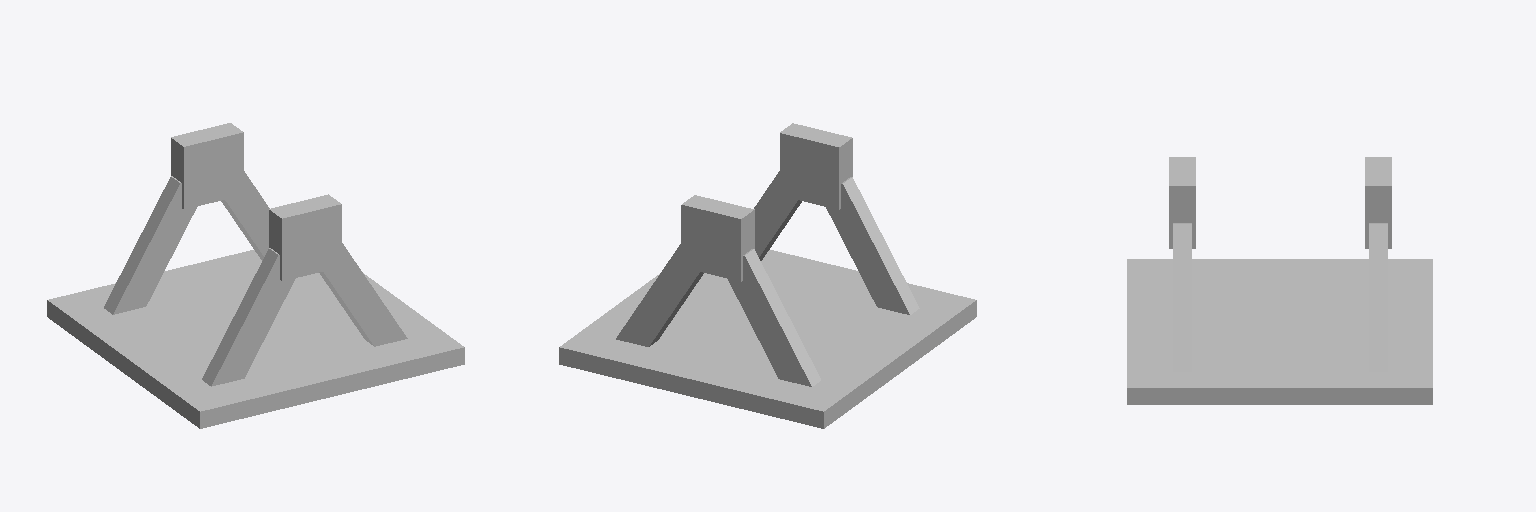
Rendered from big_crankshaft_base.obj.
3 views of the same model, side by side, from view 1: azimuth 30°, elevation 25°; view 2: azimuth 150°, elevation 25°; view 3: azimuth 270°, elevation 25° (orthographic).
Parts seen in each view (by area): view 1: base; view 2: base; view 3: base.
Boxes of the visible parts, box(x1,y1,x2,y2) form: base: box(47, 123, 464, 428); base: box(559, 123, 976, 428); base: box(1127, 157, 1432, 404).
Bounding box in the file's own units: 1 × 0.6131 × 1.